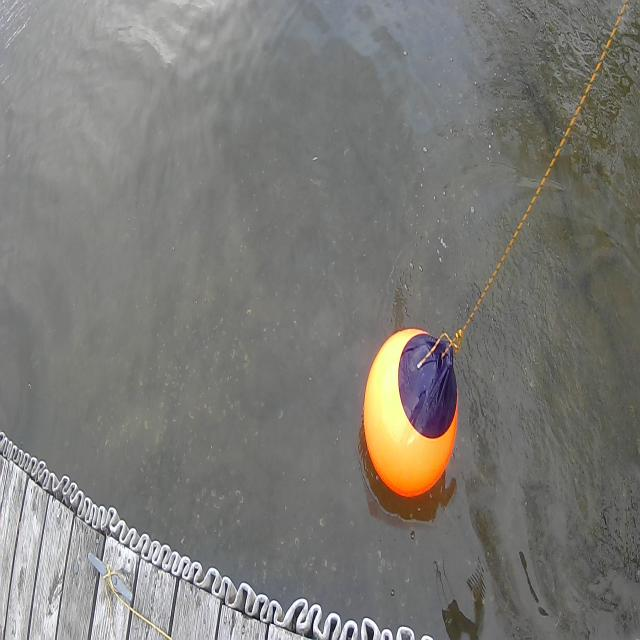Buoy: (359, 318, 462, 504)
